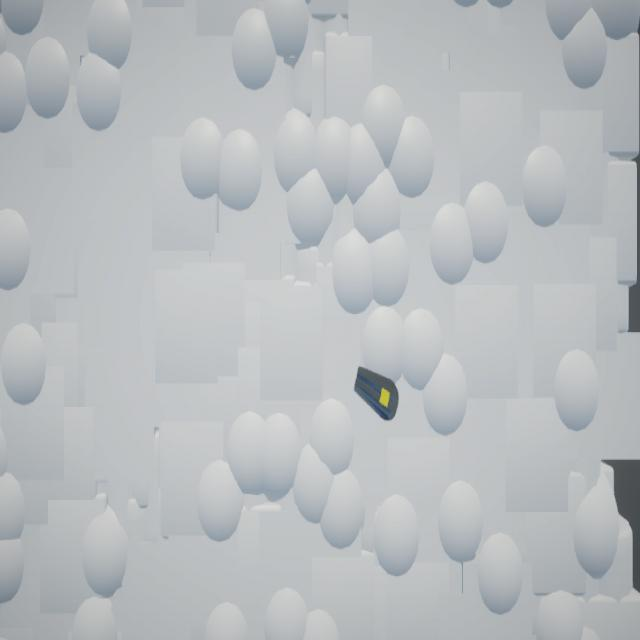handle_folk: (355, 367, 401, 421)
